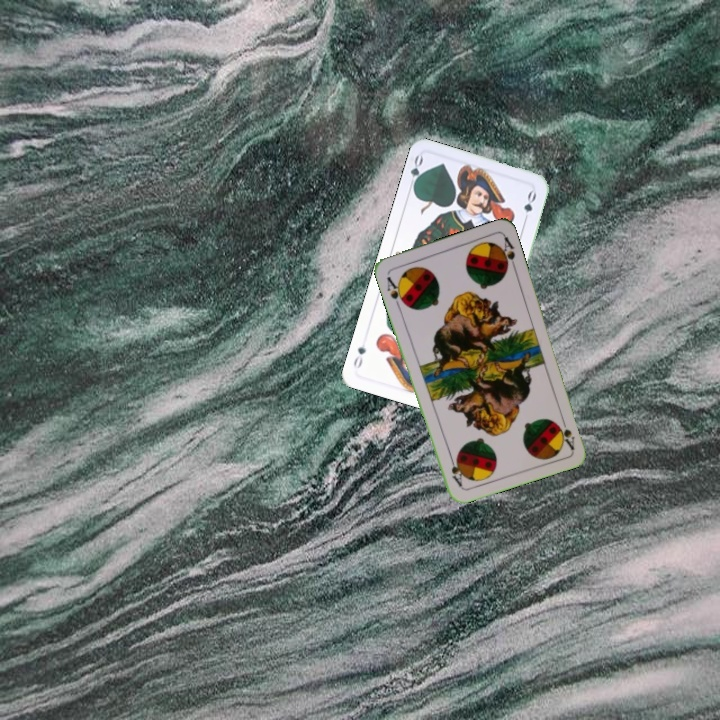GO: (405, 151, 427, 193)
SA: (553, 412, 577, 452), (383, 272, 408, 310)
